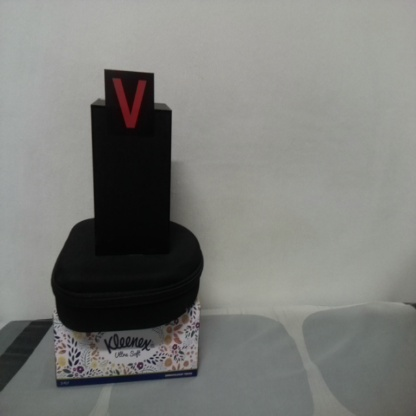id_11: (104, 69, 155, 140)
